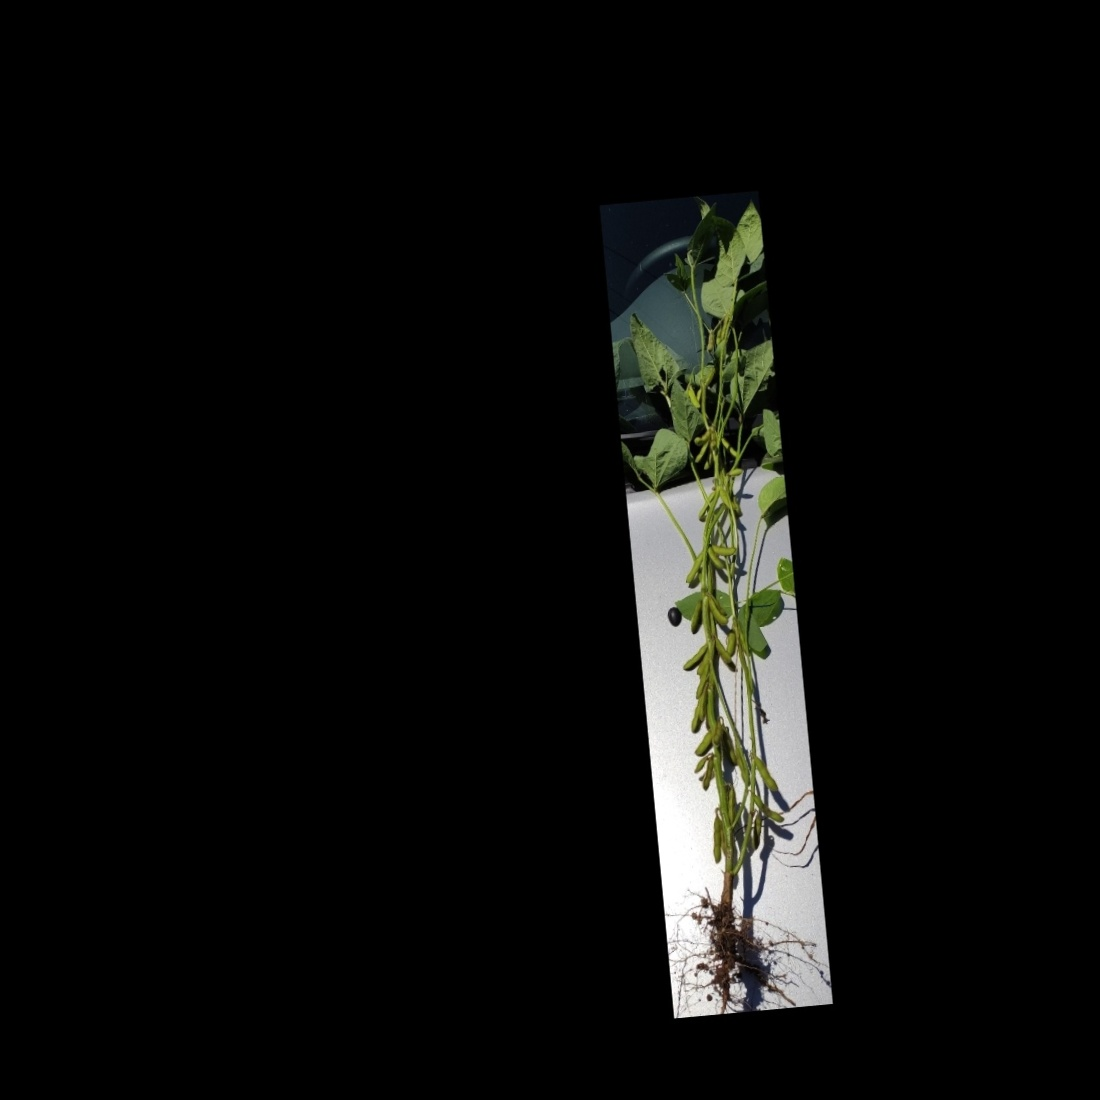pod: (750, 749, 779, 798), (706, 808, 727, 864), (753, 791, 785, 828), (679, 640, 714, 672), (710, 633, 735, 670), (682, 546, 705, 585), (684, 596, 706, 636), (698, 757, 718, 797), (706, 597, 730, 628), (688, 730, 713, 758), (708, 541, 739, 559), (692, 427, 712, 446)
soy: (600, 205, 826, 1004)
